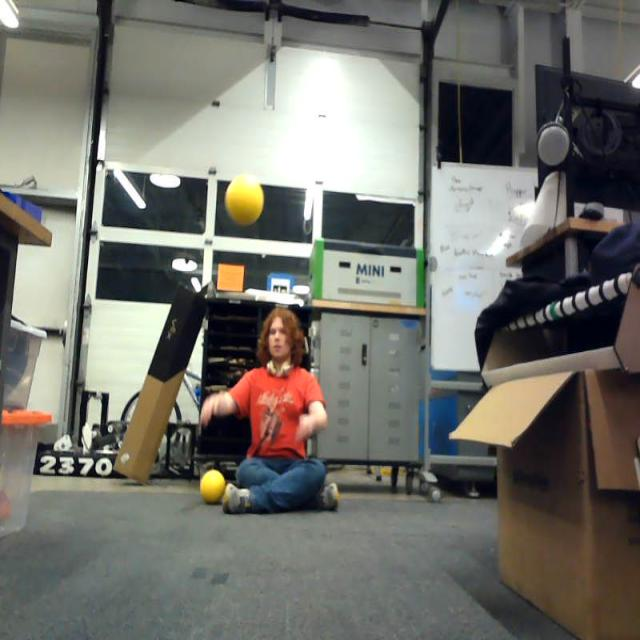Fuel: (225, 173, 264, 226), (201, 470, 225, 504)
